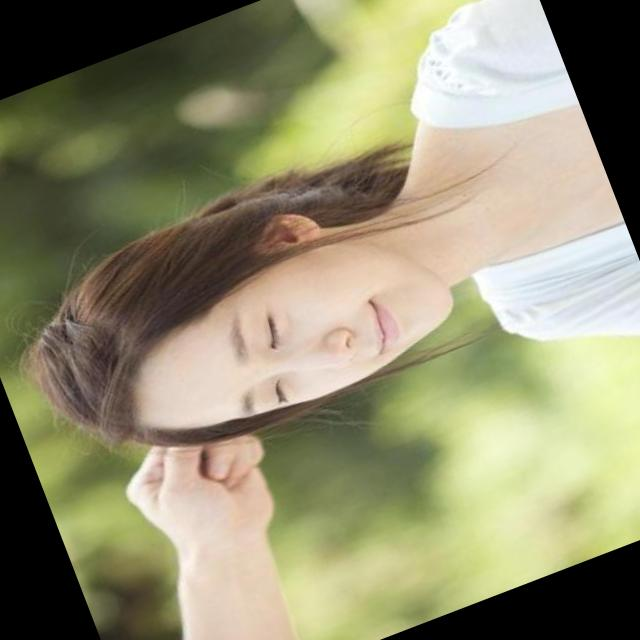bareface: (65, 149, 502, 502)
